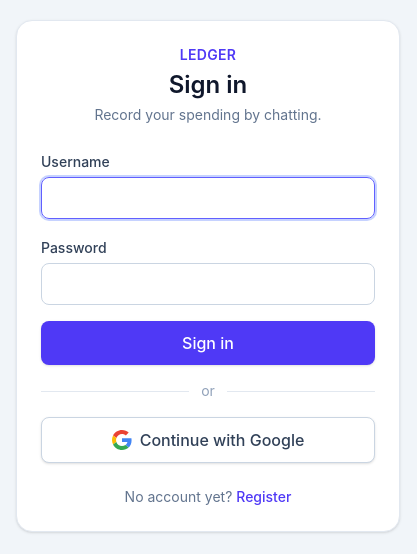
it: given the register page › is linked from the login page
Click the link "Register" at (264, 496), box top-left (236, 488), bottom-right (291, 505)
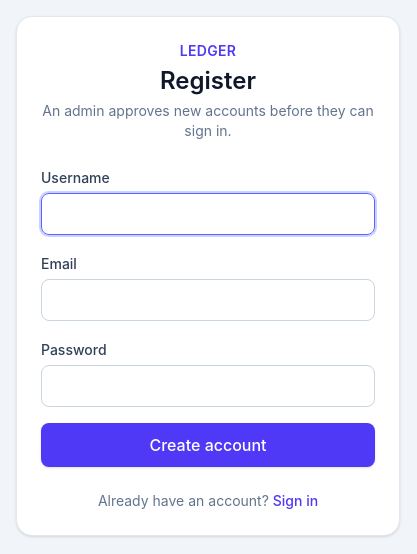
Check: the heading "Register" is shown, box top-left (160, 66), bottom-right (256, 95)
